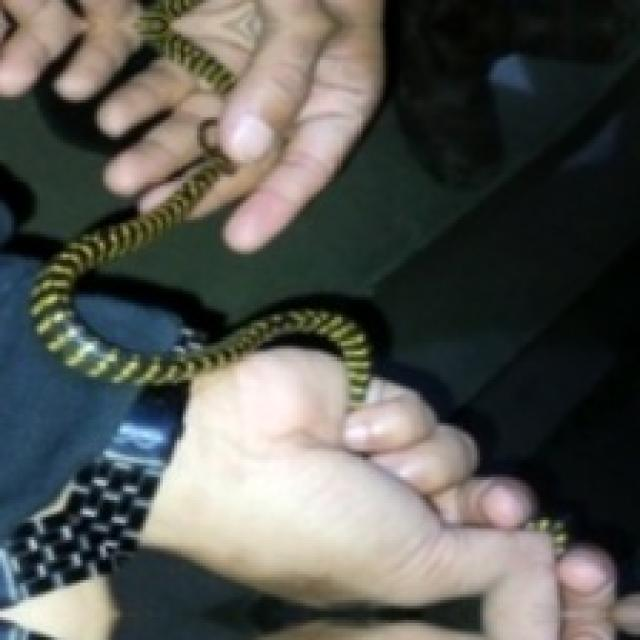mangrove cat snake: (29, 157, 369, 400), (139, 0, 235, 93)
